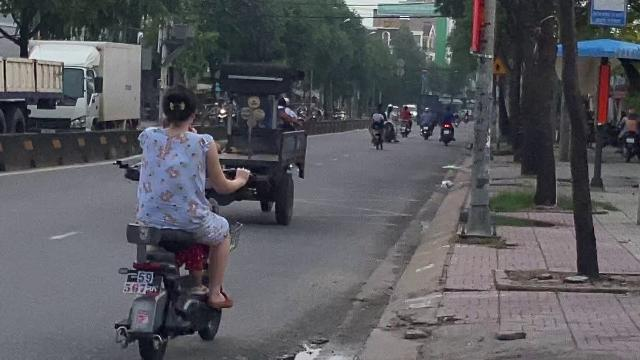motorcyclist: (107, 81, 243, 360)
nohelmet: (158, 83, 198, 129)
